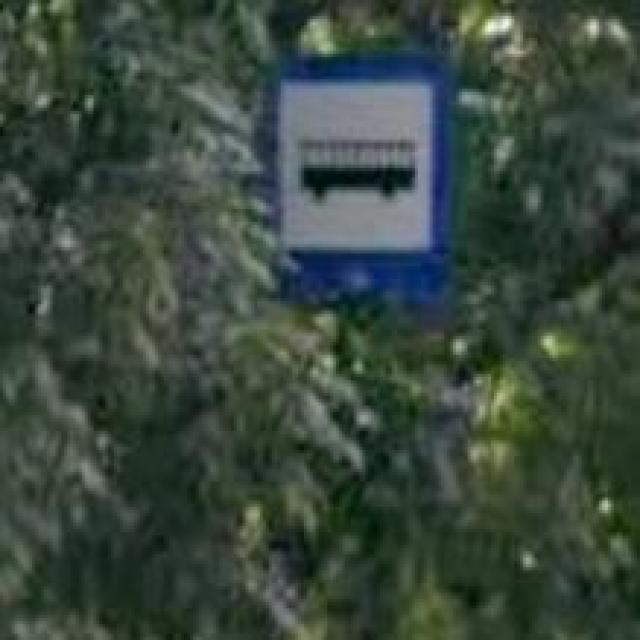traffic sign: (266, 61, 453, 308)
